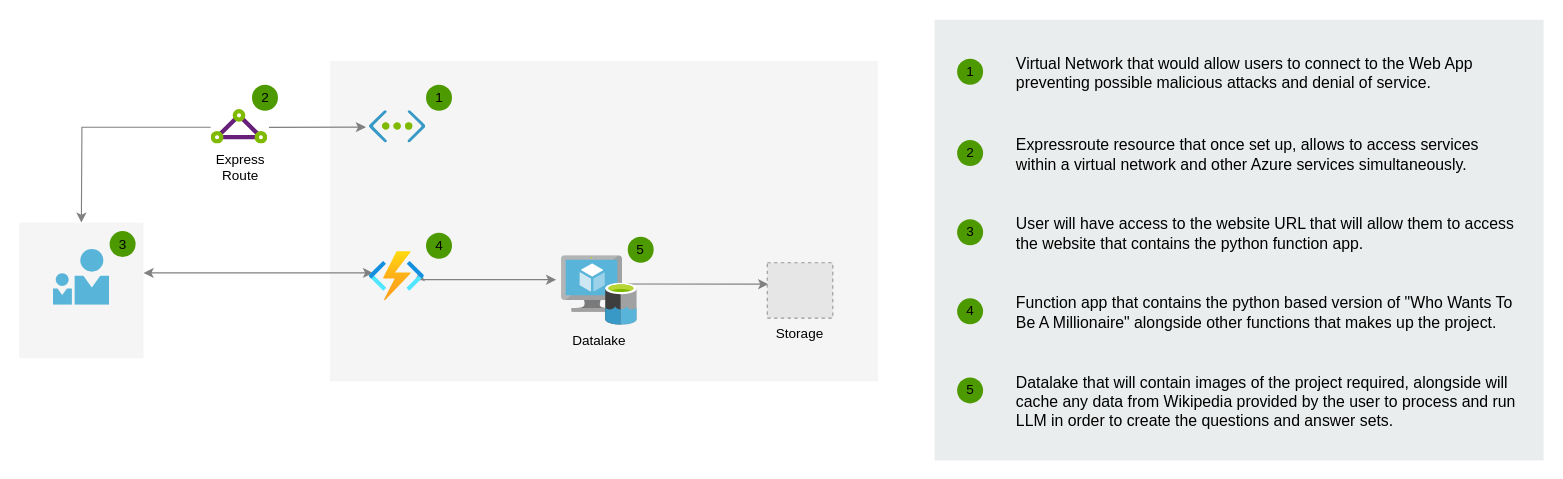
This 1563x479 diagram has some shape labels left out. Grey dashed boxes stand in for pictures. The shapes that lost their labels are listed below. From the top down, each one's centre as x and y in pixels, then its label:
the point at 397,126: Virtual Network
the point at 81,277: Users
the point at 396,275: Function App
